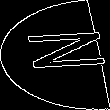N_E: (6, 33, 104, 77)
